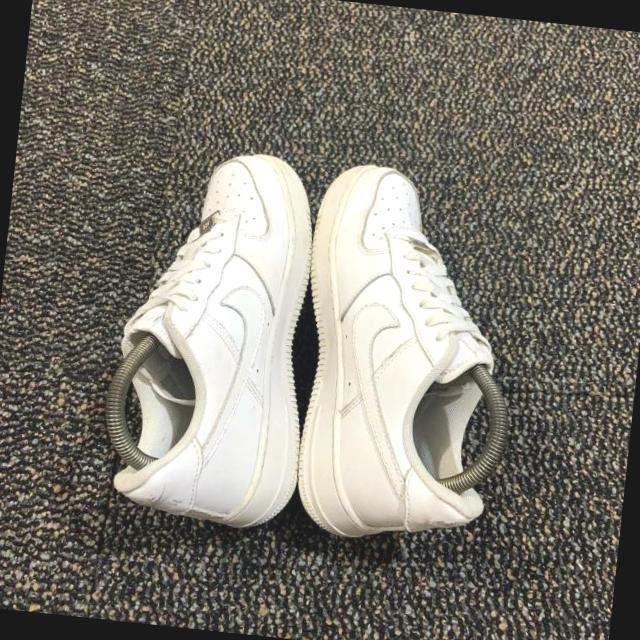nike_fake_airforce: (281, 158, 520, 552), (101, 139, 331, 536)
